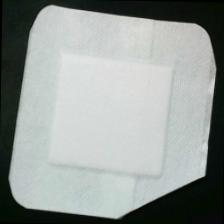Cut: (1, 1, 216, 223)
